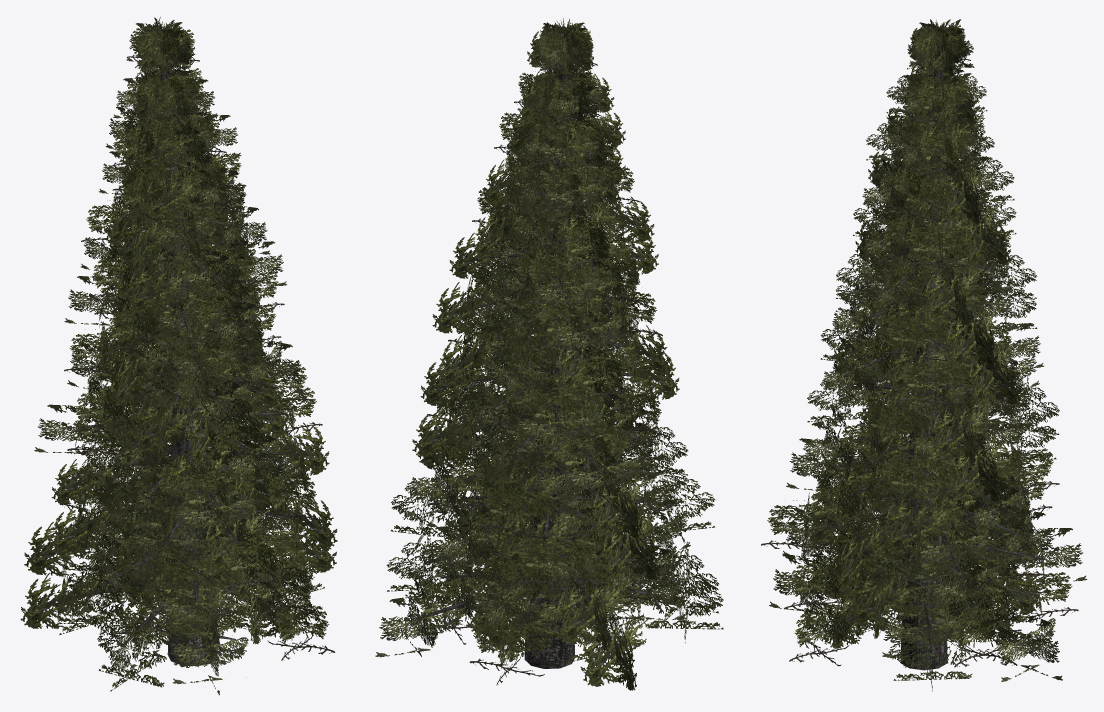
The model's file is conifer_v5_mature_01_lod0.glb.
The picture shows the model from 3 angles, left to right: view 1: azimuth 30°, elevation 25°; view 2: azimuth 150°, elevation 25°; view 3: azimuth 270°, elevation 25°; orthographic projection. The views are drawn at different scales.
Parts seen in each view (by area): view 1: foliage_cards, wood_geometry; view 2: foliage_cards, wood_geometry; view 3: foliage_cards, wood_geometry.
Boxes of the visible parts, left/top/right/bottom form: foliage_cards: left=20, top=17, right=337, bottom=695; wood_geometry: left=59, top=30, right=299, bottom=666; foliage_cards: left=375, top=18, right=723, bottom=690; wood_geometry: left=416, top=31, right=683, bottom=668; foliage_cards: left=761, top=19, right=1087, bottom=691; wood_geometry: left=803, top=28, right=1044, bottom=670.
Size of the model in its own units: 5.36 by 10.85 by 5.24.
2 materials, 2 textured.
